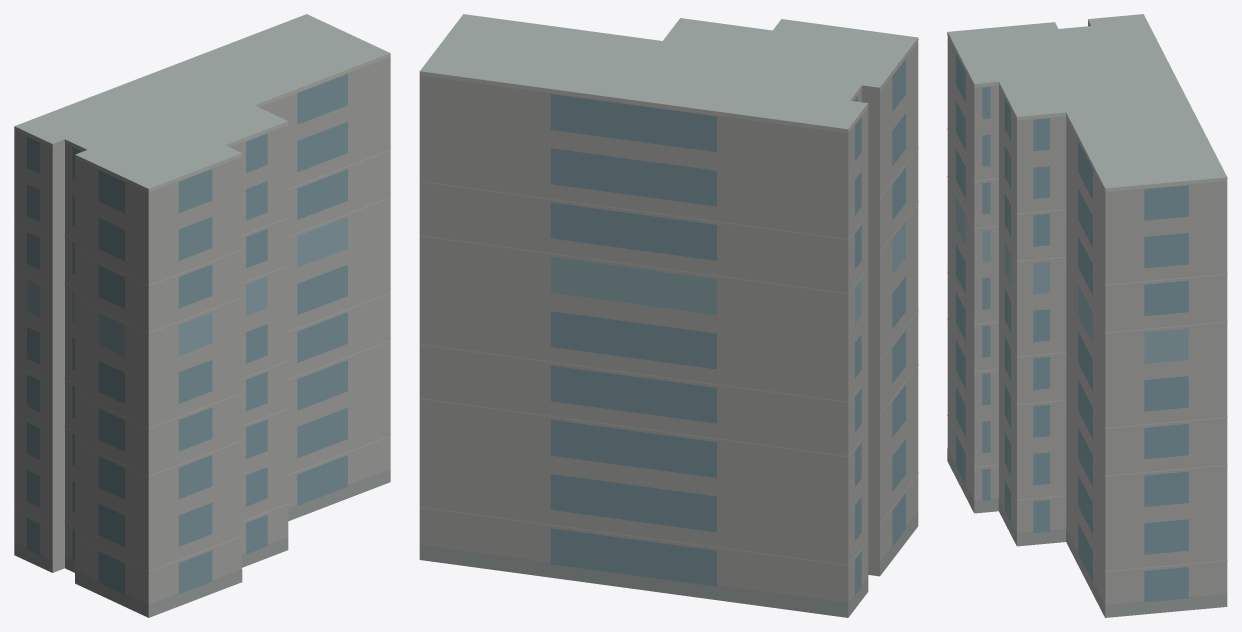
File: survey-upis-32792940.glb
3 views of the same model, side by side, from view 1: azimuth 30°, elevation 25°; view 2: azimuth 150°, elevation 25°; view 3: azimuth 270°, elevation 25° (orthographic). The views are drawn at different scales.
Parts seen in each view (by area): view 1: survey-upis-32792940.tmp; view 2: survey-upis-32792940.tmp; view 3: survey-upis-32792940.tmp.
Boxes of the visible parts, x1,y1,x2,y2 form: survey-upis-32792940.tmp: (14, 14, 390, 617); survey-upis-32792940.tmp: (419, 14, 918, 617); survey-upis-32792940.tmp: (947, 14, 1227, 617).
Bounding box in the file's own units: 24.51 × 28.1 × 16.63.
